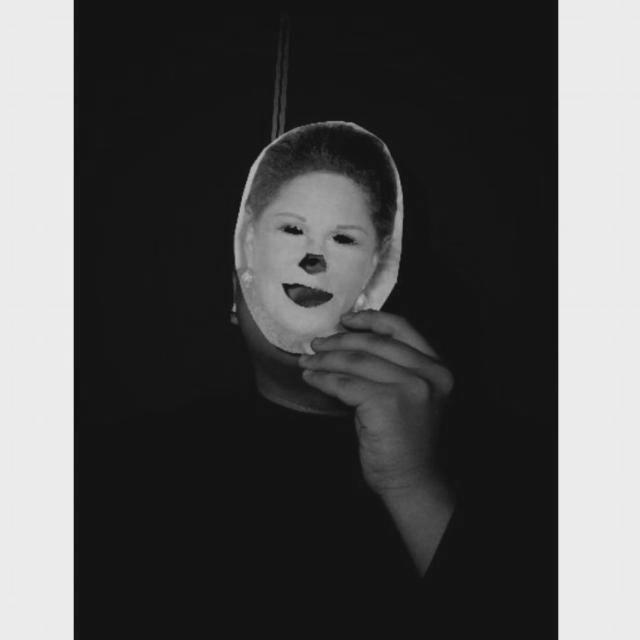fake: (220, 115, 406, 362)
